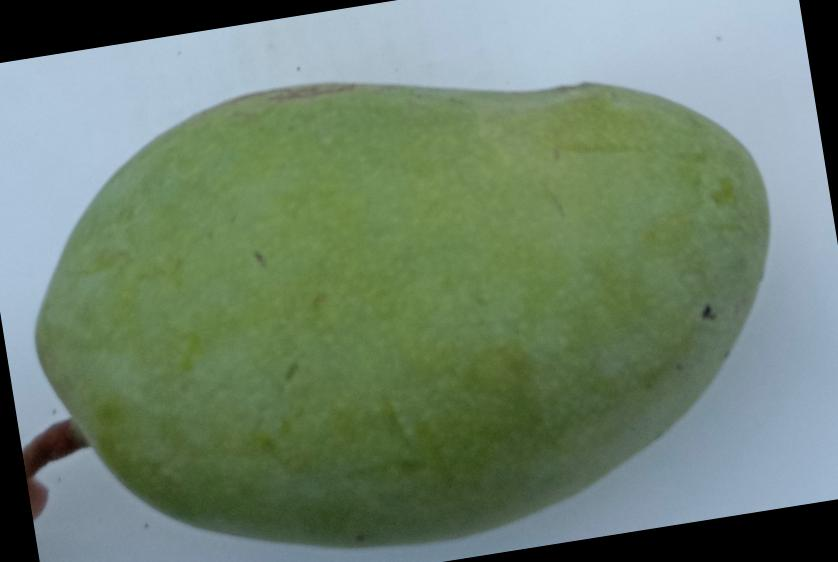Mango Unripe: (0, 0, 828, 562)
